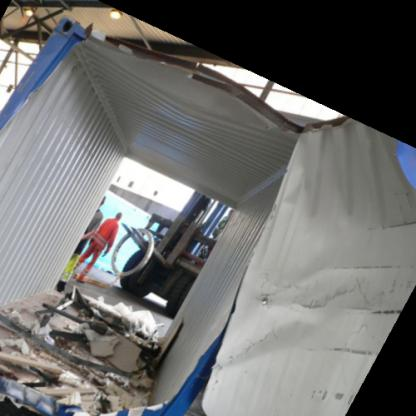Damage: (0, 17, 410, 415)
